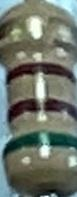Brown: (8, 97, 76, 121), (7, 64, 76, 84)
Green: (4, 130, 77, 158)
Side-Gold: (0, 16, 76, 41)
